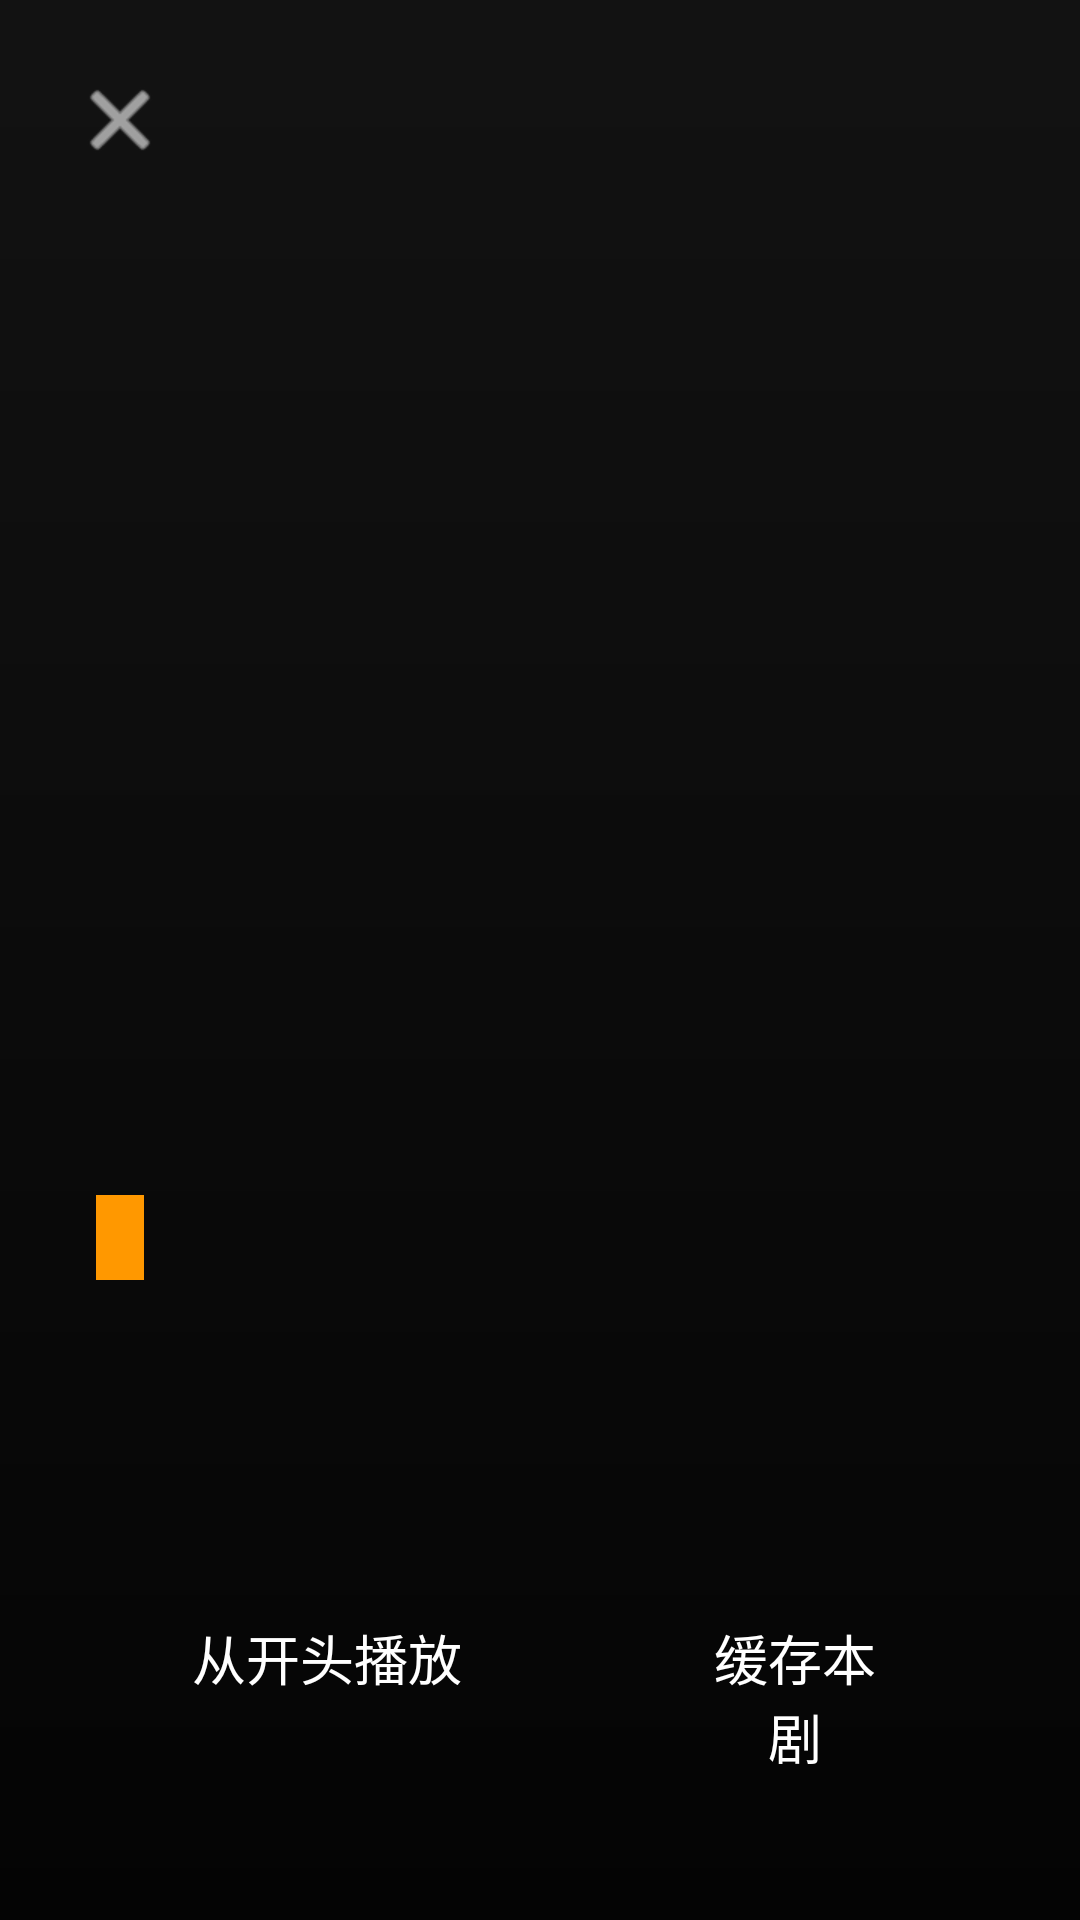

Named icons in this screenshot (1080*1920) and their bounding boxes, (x1, y1, x2, y2):
close clear cancel: (90, 90, 150, 150)
